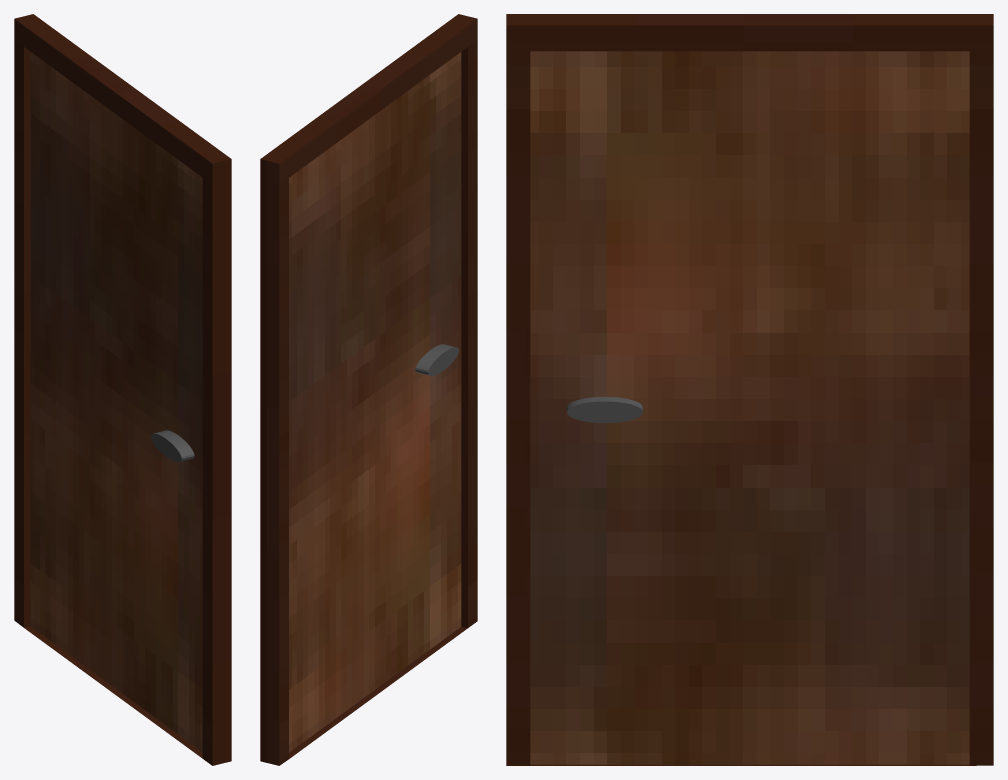
File: door.glb
3 views of the same model, side by side, from view 1: azimuth 30°, elevation 25°; view 2: azimuth 150°, elevation 25°; view 3: azimuth 270°, elevation 25° (orthographic). The views are drawn at different scales.
Parts seen in each view (by area): view 1: door; view 2: door; view 3: door.
Boxes of the visible parts, box(x1,y1,x2,y2) form: door: box(14, 14, 231, 765); door: box(260, 14, 477, 765); door: box(506, 14, 993, 765).
Size of the model in its own units: 0.1287 by 2.42 by 1.44.
Materials: 3 (2 with a texture image).
